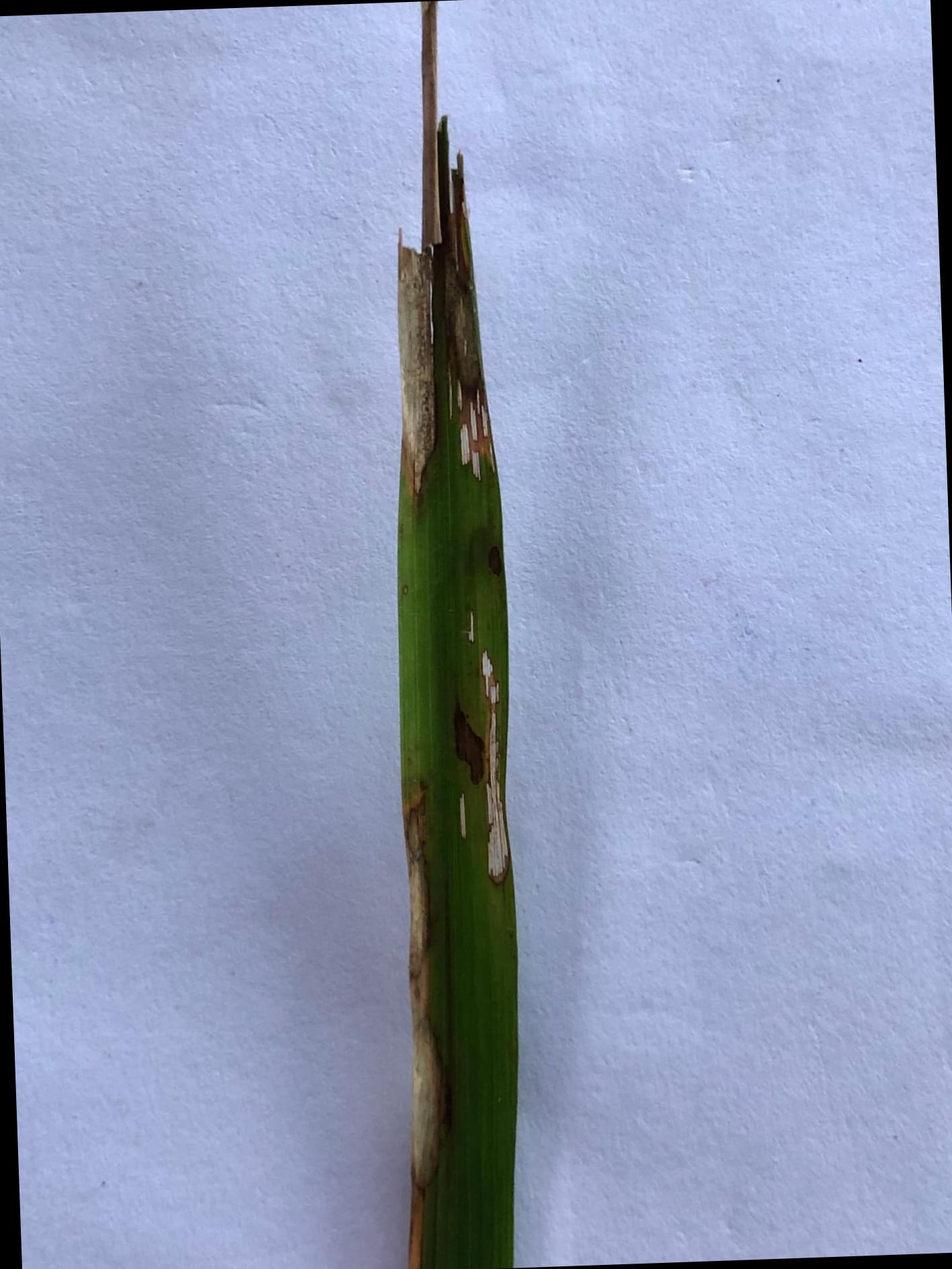Leaf Blight: (396, 1, 495, 506), (403, 780, 448, 1269), (454, 632, 510, 886), (487, 545, 504, 577), (458, 792, 468, 840), (465, 612, 474, 646)
